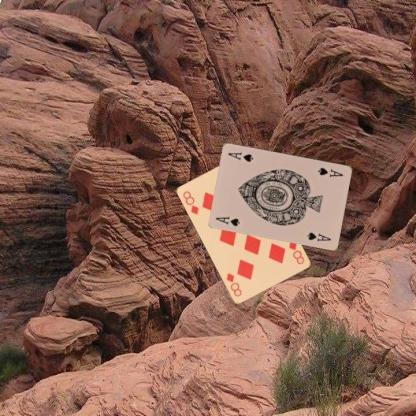8d: (180, 188, 200, 216), (287, 238, 306, 266)
As: (315, 165, 344, 178), (213, 214, 242, 227)
